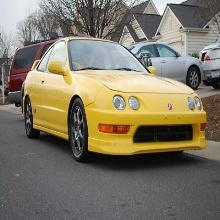no damage: (21, 36, 208, 164)
